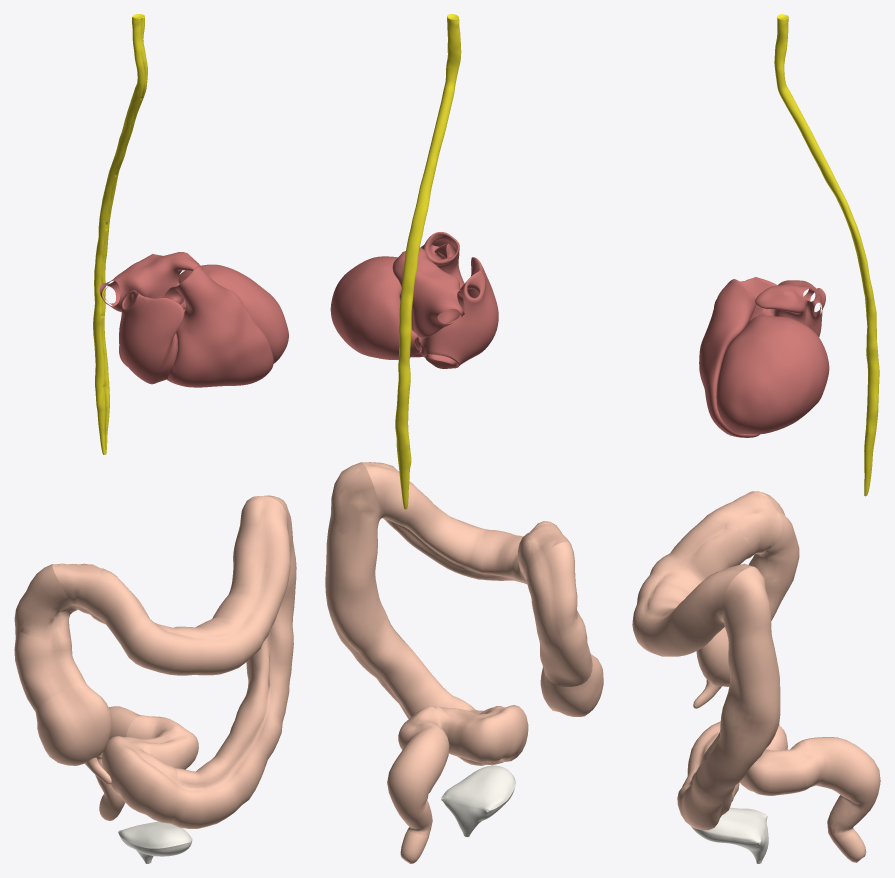
The model's file is organs.glb.
3 renders of one model, left to right at view 1: azimuth 30°, elevation 25°; view 2: azimuth 150°, elevation 25°; view 3: azimuth 270°, elevation 25°, orthographic. The views are drawn at different scales.
Visible parts, largest first — view 1: VH_F_transverse_colon, VH_F_descending_colon, VH_F_right_ventricle, VH_F_sigmoid_colon, VH_F_ascending_colon, VH_F_caecum, VH_F_right_cardiac_atrium, VH_F_left_ventricle, VH_F_left_cardiac_atrium, VH_F_fundus_of_urinary_bladder_dome, VH_F_rectum, VH_F_hepatic_flexure_of_colon (+2 smaller); view 2: VH_F_descending_colon, VH_F_transverse_colon, VH_F_ascending_colon, VH_F_left_ventricle, VH_F_rectum, VH_F_sigmoid_colon, VH_F_right_cardiac_atrium, VH_F_left_cardiac_atrium, VH_F_fundus_of_urinary_bladder_dome, VH_F_caecum, VH_F_right_ventricle, VH_F_fundus_of_urinary_bladder_base (+2 smaller); view 3: VH_F_descending_colon, VH_F_transverse_colon, VH_F_left_ventricle, VH_F_rectum, VH_F_right_ventricle, VH_F_sigmoid_colon, VH_F_left_cardiac_atrium, VH_F_ascending_colon, VH_F_fundus_of_urinary_bladder_dome, VH_F_caecum, VH_F_hepatic_flexure_of_colon, VH_F_fundus_of_urinary_bladder_base.
Part boxes in pixels (bbox=[...]): VH_F_transverse_colon: bbox=[52, 496, 290, 675]; VH_F_descending_colon: bbox=[171, 495, 296, 828]; VH_F_right_ventricle: bbox=[167, 265, 273, 387]; VH_F_sigmoid_colon: bbox=[102, 715, 198, 823]; VH_F_ascending_colon: bbox=[14, 564, 86, 712]; VH_F_caecum: bbox=[35, 681, 112, 765]; VH_F_right_cardiac_atrium: bbox=[119, 290, 184, 384]; VH_F_left_ventricle: bbox=[178, 264, 288, 363]; VH_F_left_cardiac_atrium: bbox=[99, 252, 202, 311]; VH_F_fundus_of_urinary_bladder_dome: bbox=[118, 821, 192, 848]; VH_F_rectum: bbox=[95, 706, 141, 820]; VH_F_hepatic_flexure_of_colon: bbox=[20, 563, 117, 640]; VH_F_descending_colon: bbox=[325, 462, 486, 765]; VH_F_transverse_colon: bbox=[362, 462, 570, 584]; VH_F_ascending_colon: bbox=[526, 542, 592, 686]; VH_F_left_ventricle: bbox=[330, 256, 419, 359]; VH_F_rectum: bbox=[387, 723, 449, 863]; VH_F_sigmoid_colon: bbox=[399, 705, 528, 765]; VH_F_right_cardiac_atrium: bbox=[414, 257, 498, 368]; VH_F_left_cardiac_atrium: bbox=[392, 247, 464, 338]; VH_F_fundus_of_urinary_bladder_dome: bbox=[441, 765, 515, 810]; VH_F_caecum: bbox=[540, 654, 603, 716]; VH_F_right_ventricle: bbox=[412, 232, 464, 357]; VH_F_fundus_of_urinary_bladder_base: bbox=[441, 788, 514, 834]; VH_F_descending_colon: bbox=[677, 567, 780, 830]; VH_F_transverse_colon: bbox=[632, 491, 782, 656]; VH_F_left_ventricle: bbox=[716, 315, 829, 434]; VH_F_rectum: bbox=[803, 737, 880, 862]; VH_F_right_ventricle: bbox=[699, 279, 759, 437]; VH_F_sigmoid_colon: bbox=[687, 721, 806, 795]; VH_F_left_cardiac_atrium: bbox=[755, 280, 825, 336]; VH_F_ascending_colon: bbox=[748, 492, 799, 620]; VH_F_fundus_of_urinary_bladder_dome: bbox=[697, 807, 767, 842]; VH_F_caecum: bbox=[696, 627, 729, 686]; VH_F_hepatic_flexure_of_colon: bbox=[706, 495, 792, 581]; VH_F_fundus_of_urinary_bladder_base: bbox=[691, 816, 768, 860].
Size of the model in its own units: 0.2433 by 0.7288 by 0.1934.
